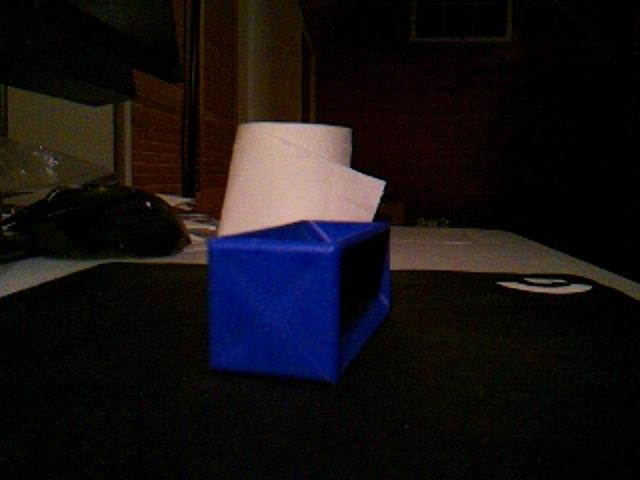blue: (205, 219, 393, 385)
